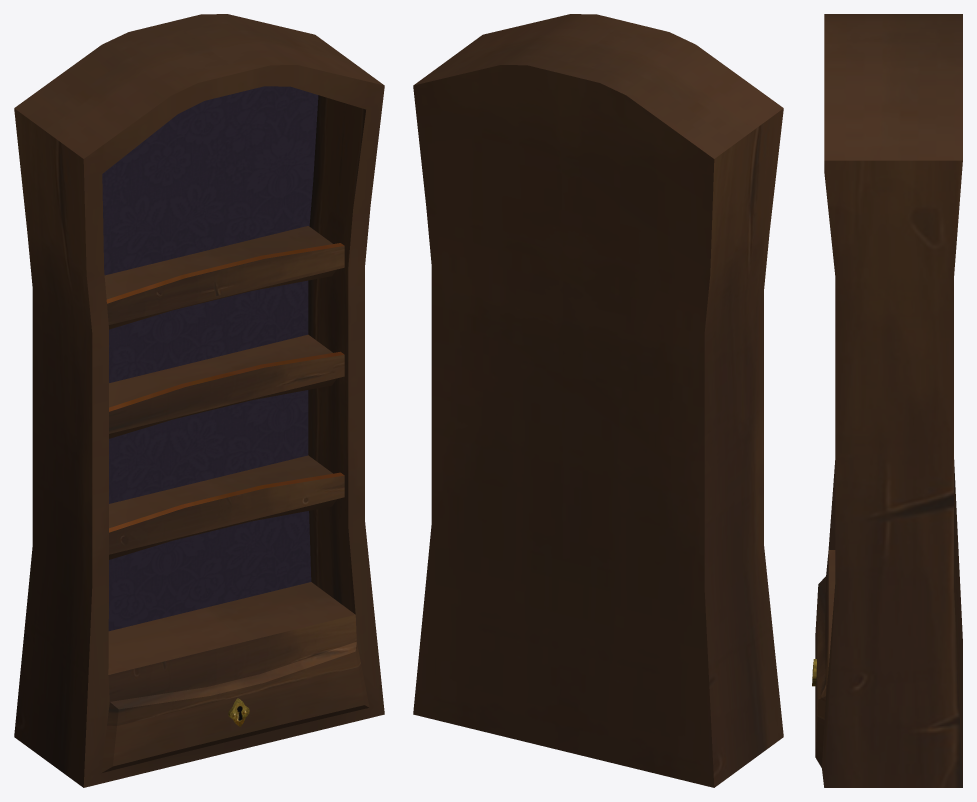
The model's file is BookshelfNew.fbx.
3 views of the same model, side by side, from view 1: azimuth 30°, elevation 25°; view 2: azimuth 150°, elevation 25°; view 3: azimuth 270°, elevation 25° (orthographic).
Visible parts, largest first — view 1: Bookshelf; view 2: Bookshelf; view 3: Bookshelf.
Part boxes in pixels (x1,y1,x2,y2): Bookshelf: (14, 14, 384, 787); Bookshelf: (413, 14, 783, 787); Bookshelf: (812, 14, 962, 787).
Size of the model in its own units: 5 by 10.74 by 2.18.
